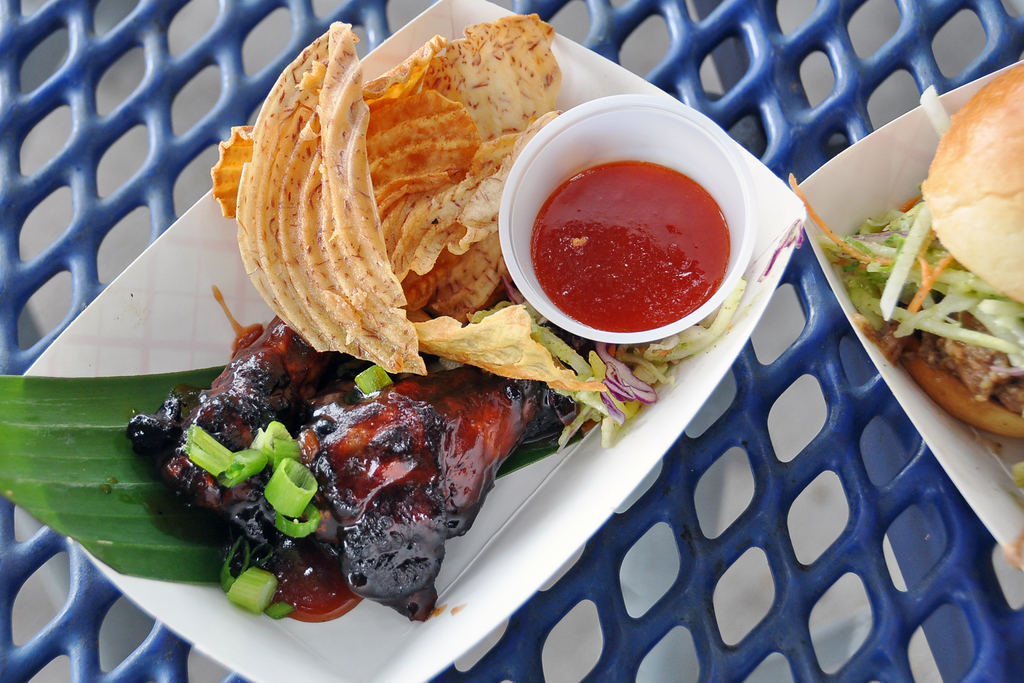Hamburger: (787, 62, 1023, 438)
